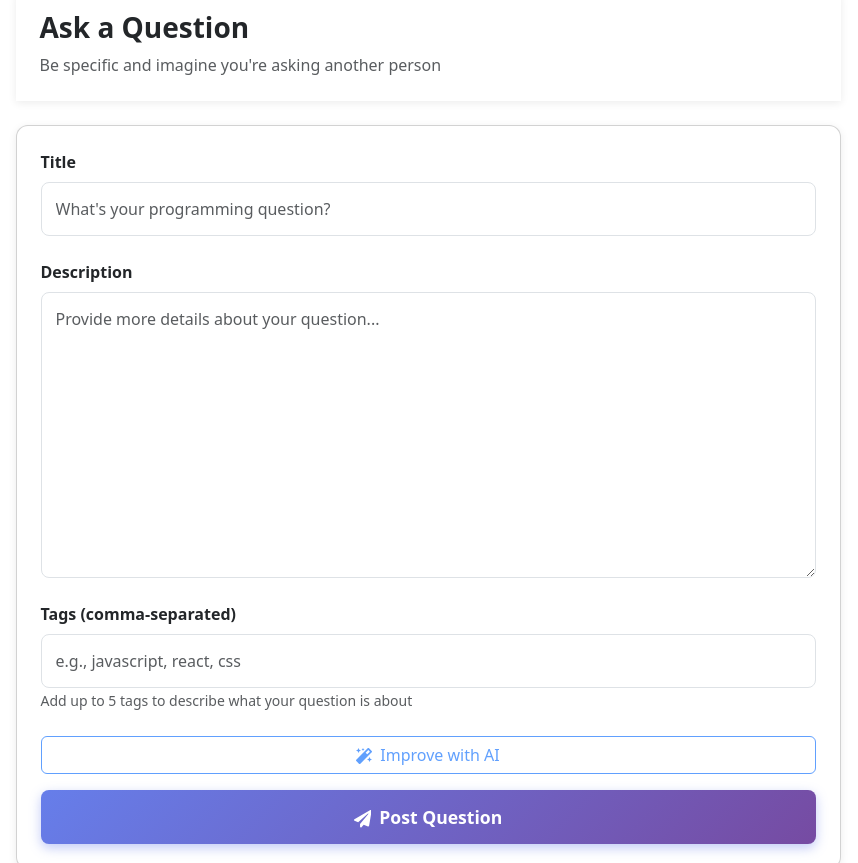
PostQuestion Page › AI question improver › rejecting a suggestion leaves the field unchanged and removes the suggestion
Type "my title" into the field with placeholder "What's your programming question?".
click(428, 209); type("my title")  # box x1=40 y1=182 x2=816 y2=236
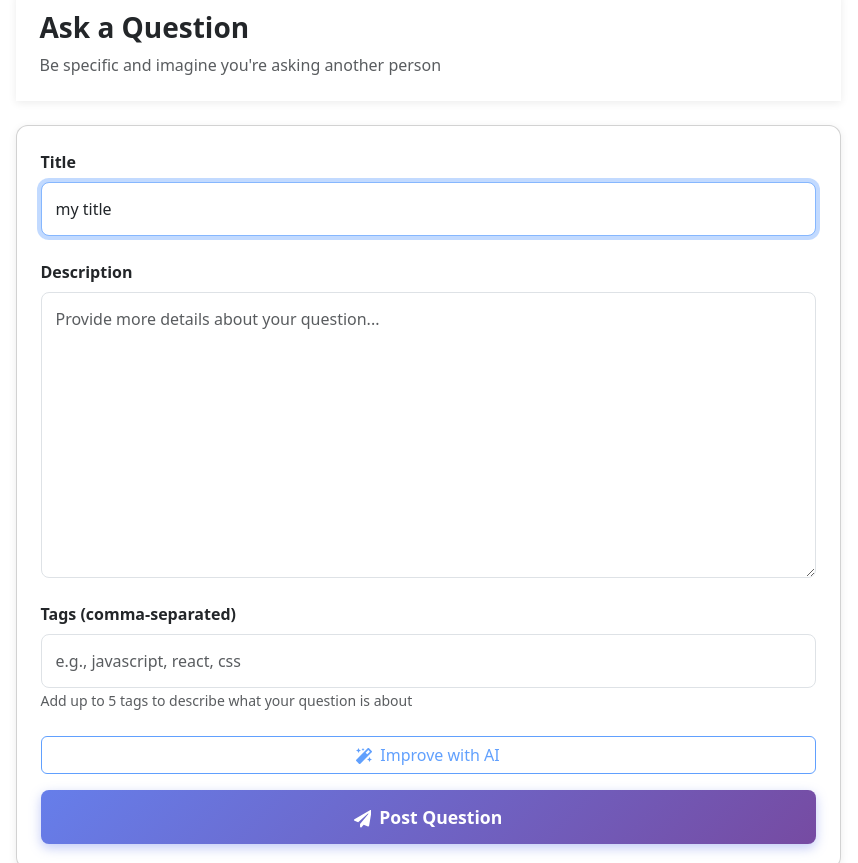
Type "my description" into the text box with placeholder "Provide more details about your question...".
click(428, 435); type("my description")  # box x1=40 y1=292 x2=816 y2=578
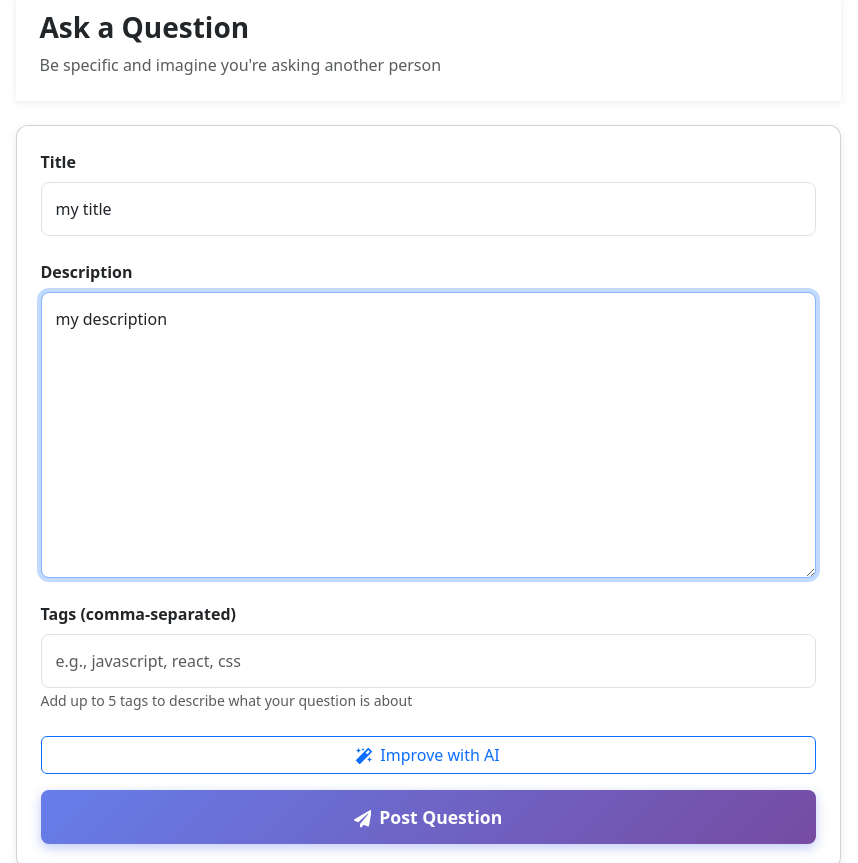
Type "js" into the field with placeholder "e.g., javascript, react, css".
click(428, 660); type("js")  # box x1=40 y1=634 x2=816 y2=688
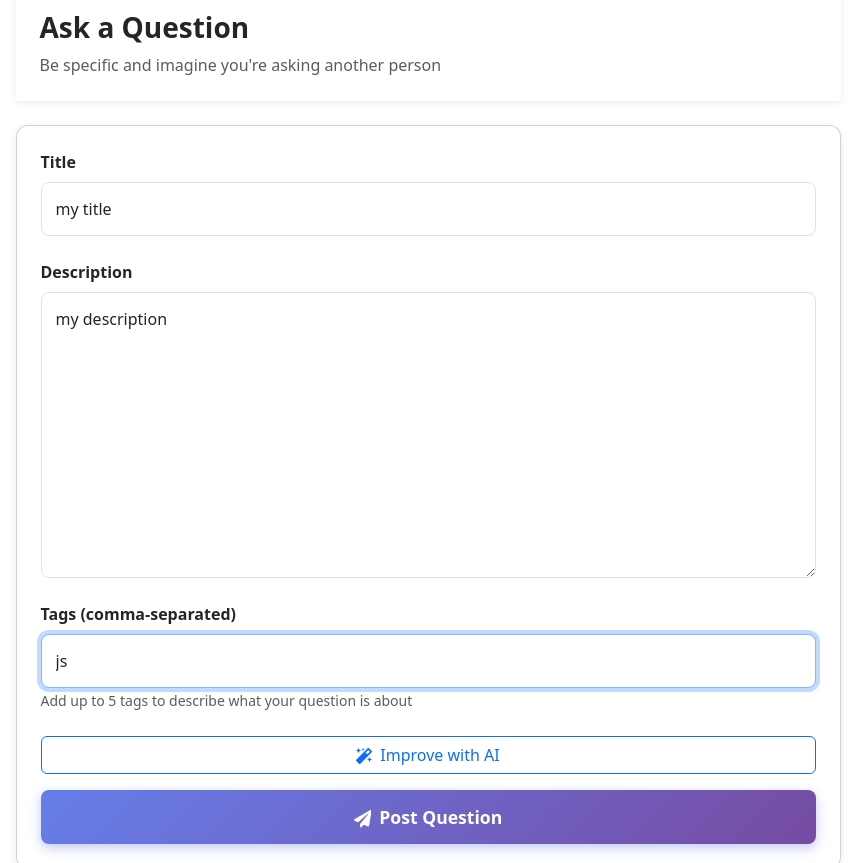
Click the button "Improve with AI".
click(428, 754)  # box x1=40 y1=736 x2=816 y2=774
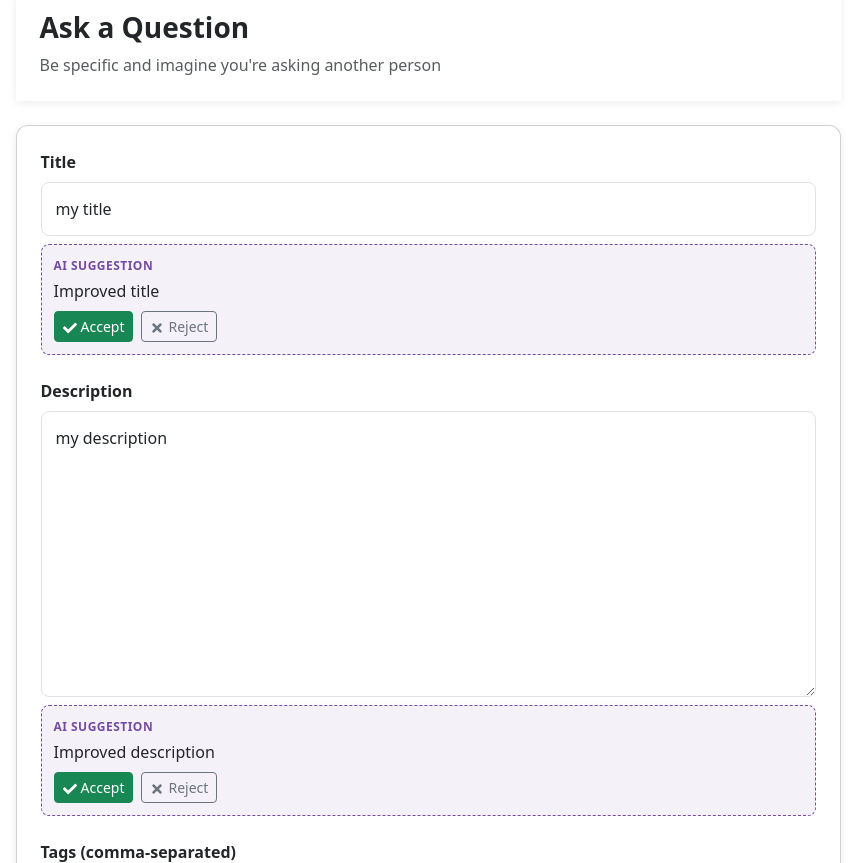
Expected: the text "Improved description" is shown, x1=54 y1=740 x2=215 y2=762
Click the button with aria-label "reject description suggestion".
click(179, 787)  # box x1=142 y1=772 x2=217 y2=802
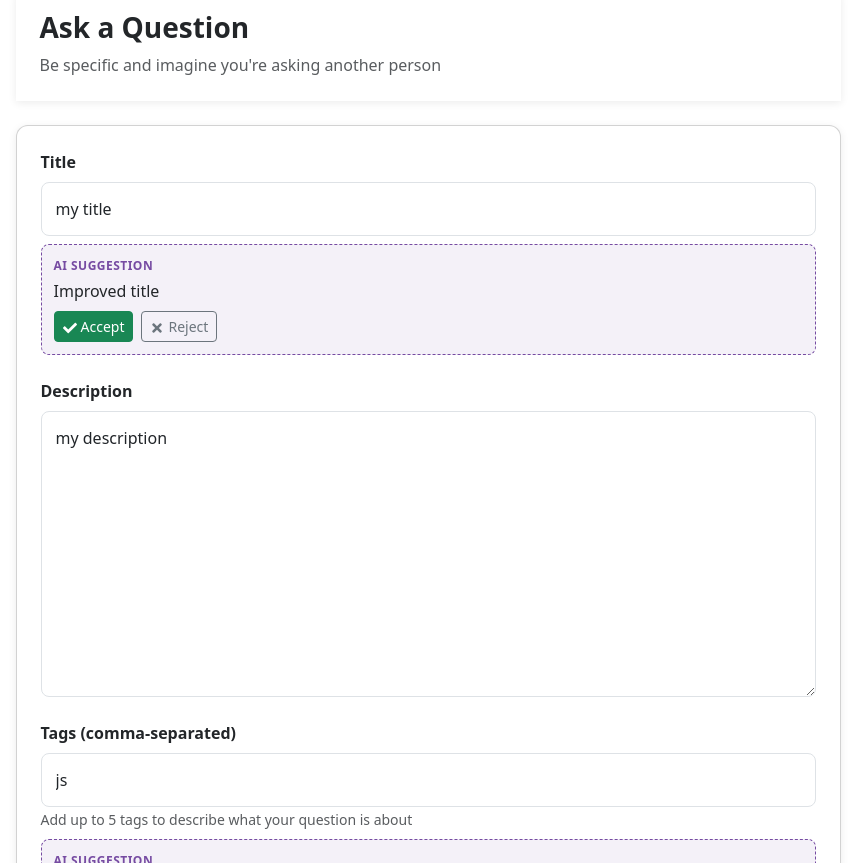
Expected: the text "Improved title" is shown, x1=54 y1=280 x2=159 y2=302
Expected: the text "Improved description" is gone
